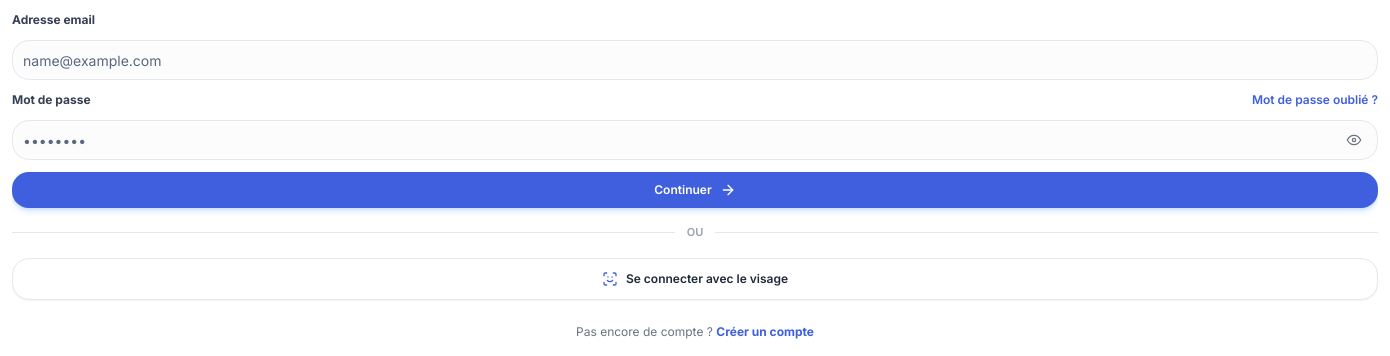
Test: i18n + RTL › renders French translations for the face-login button
Step 1. Click the button "Se connecter avec le visage" → {"x": 695, "y": 279}, box [12,258,1378,300]
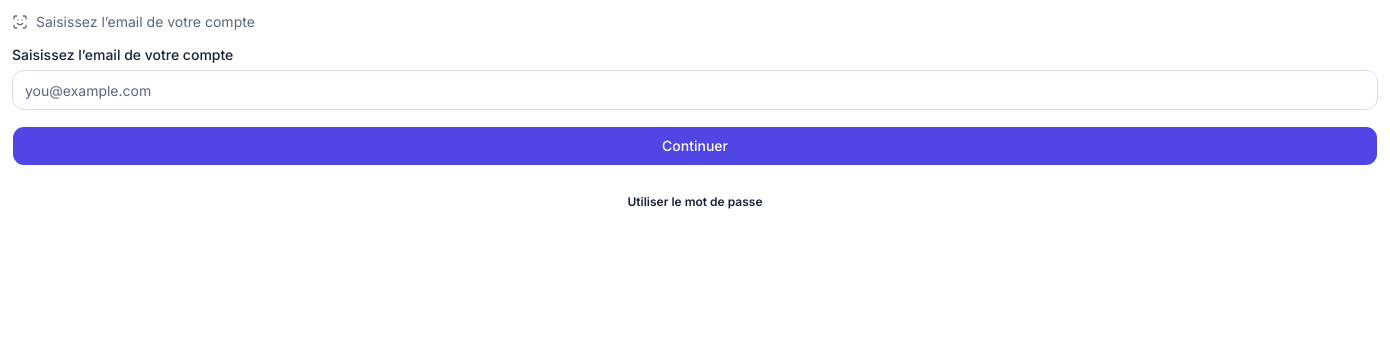
Check: the field labelled "Saisissez l’email de votre compte" is shown, box [12,70,1378,110]
